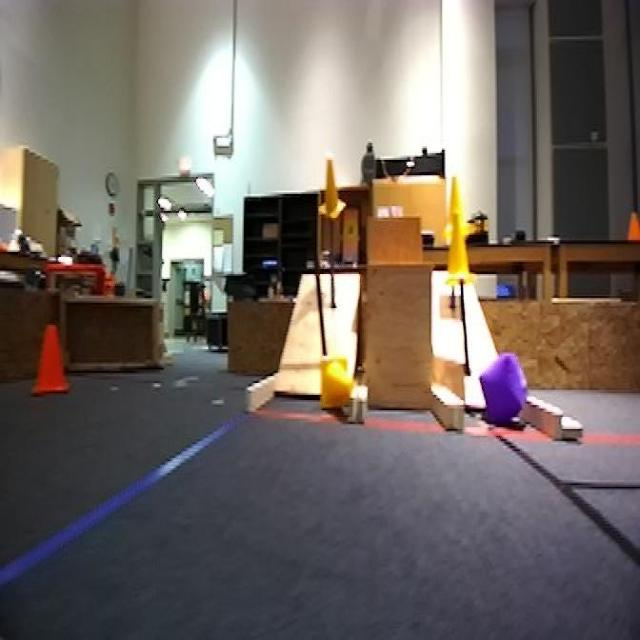frc_cone: (443, 213, 475, 286), (319, 358, 356, 408), (318, 157, 346, 221), (444, 174, 468, 228)
frc_cube: (479, 356, 527, 427)
